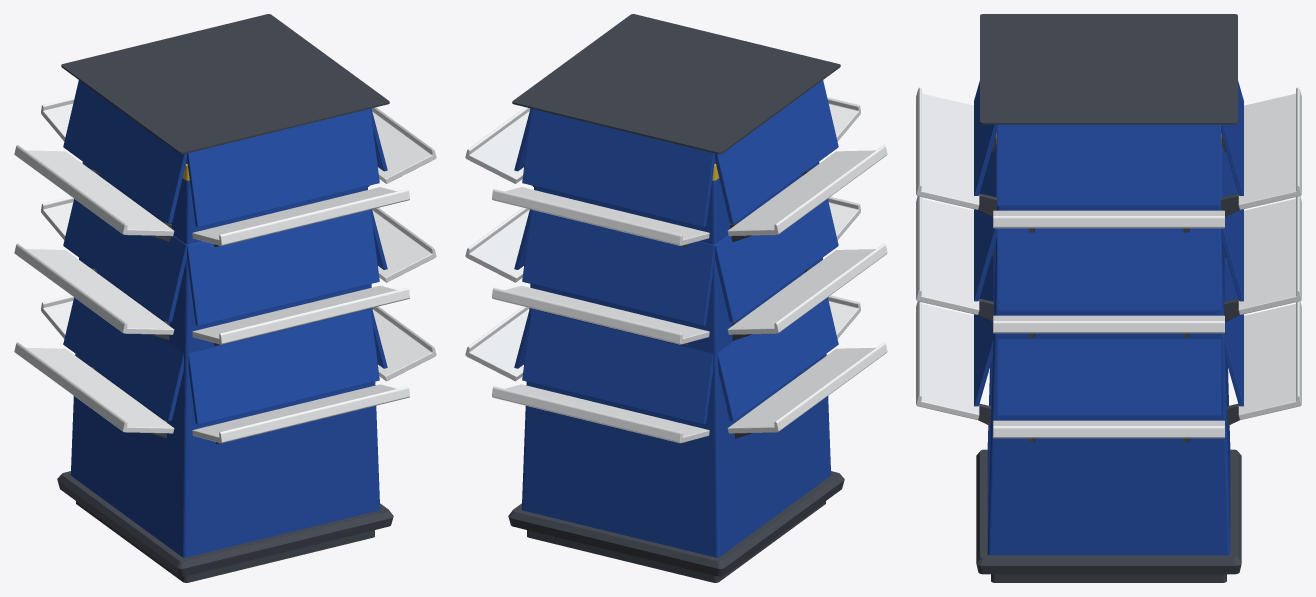
File: four-sided-merchandiser.glb
3 renders of one model, left to right at view 1: azimuth 30°, elevation 25°; view 2: azimuth 150°, elevation 25°; view 3: azimuth 270°, elevation 25°, orthographic. The views are drawn at different scales.
Visible parts, largest first — view 1: four-sided-merchandiser; view 2: four-sided-merchandiser; view 3: four-sided-merchandiser.
Part boxes in pixels (left/top/right/bottom): four-sided-merchandiser: left=14, top=14, right=436, bottom=582; four-sided-merchandiser: left=465, top=14, right=887, bottom=582; four-sided-merchandiser: left=916, top=14, right=1301, bottom=582.
Size of the model in its own units: 2.99 by 3.98 by 2.99.
